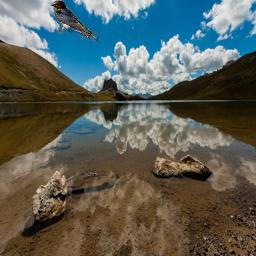Swallow: (51, 0, 100, 42)
